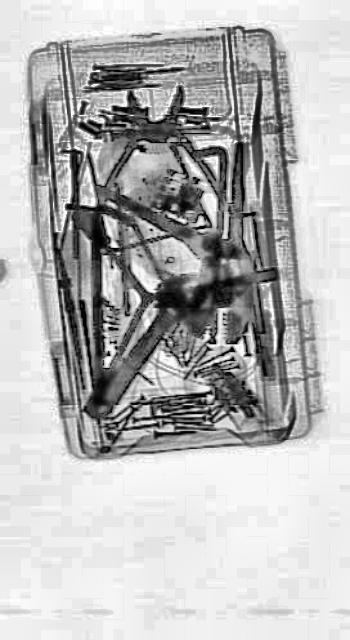Pliers: (87, 84, 231, 226)
